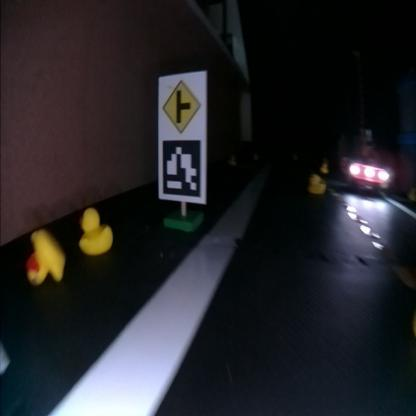Duckie: (28, 230, 66, 284), (80, 207, 114, 254), (310, 174, 326, 192), (409, 187, 415, 202), (322, 164, 330, 172), (232, 154, 238, 162)
Duckiebot: (343, 152, 389, 190)
Intersection sign: (160, 76, 202, 130)
QR code: (160, 137, 204, 197)
